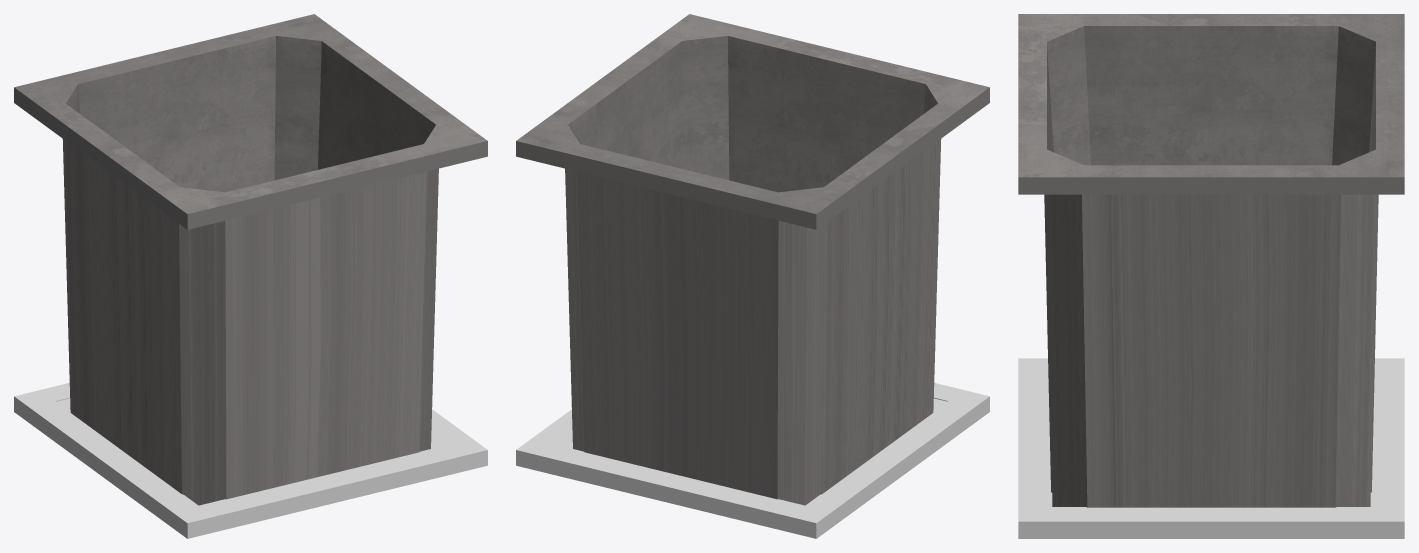
File: Floor Hole.fbx
3 views of the same model, side by side, from view 1: azimuth 30°, elevation 25°; view 2: azimuth 150°, elevation 25°; view 3: azimuth 270°, elevation 25° (orthographic). The views are drawn at different scales.
Visible parts, largest first — view 1: Floor Hole, Floor Hole Bottom; view 2: Floor Hole, Floor Hole Bottom; view 3: Floor Hole, Floor Hole Bottom.
Boxes of the visible parts, x1=… form: Floor Hole: x1=14, y1=14, x2=487, y2=505; Floor Hole Bottom: x1=14, y1=383, x2=487, y2=538; Floor Hole: x1=516, y1=14, x2=989, y2=505; Floor Hole Bottom: x1=516, y1=383, x2=989, y2=538; Floor Hole: x1=1018, y1=14, x2=1404, y2=507; Floor Hole Bottom: x1=1018, y1=358, x2=1404, y2=538.
Bounding box in the file's own units: 4 × 4 × 4.17.
